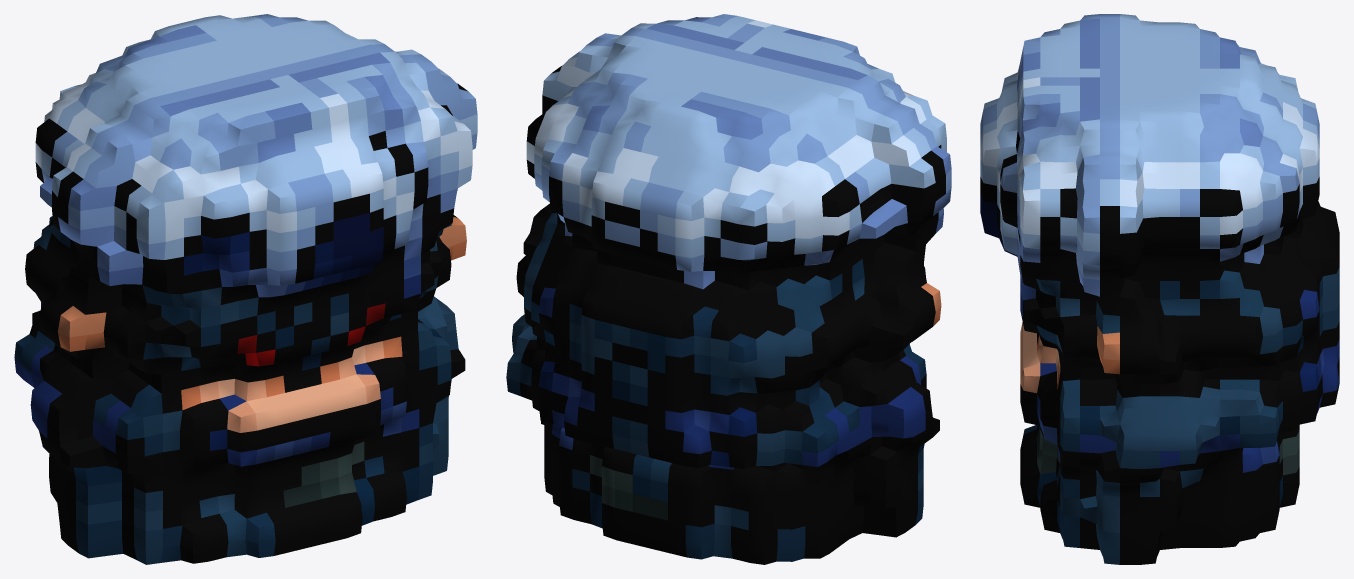
The model's file is Icon_757_02.obj.
The picture shows the model from 3 angles, left to right: view 1: azimuth 30°, elevation 25°; view 2: azimuth 150°, elevation 25°; view 3: azimuth 270°, elevation 25°; orthographic projection. The views are drawn at different scales.
Size of the model in its own units: 2.2 by 2.3 by 1.8.
